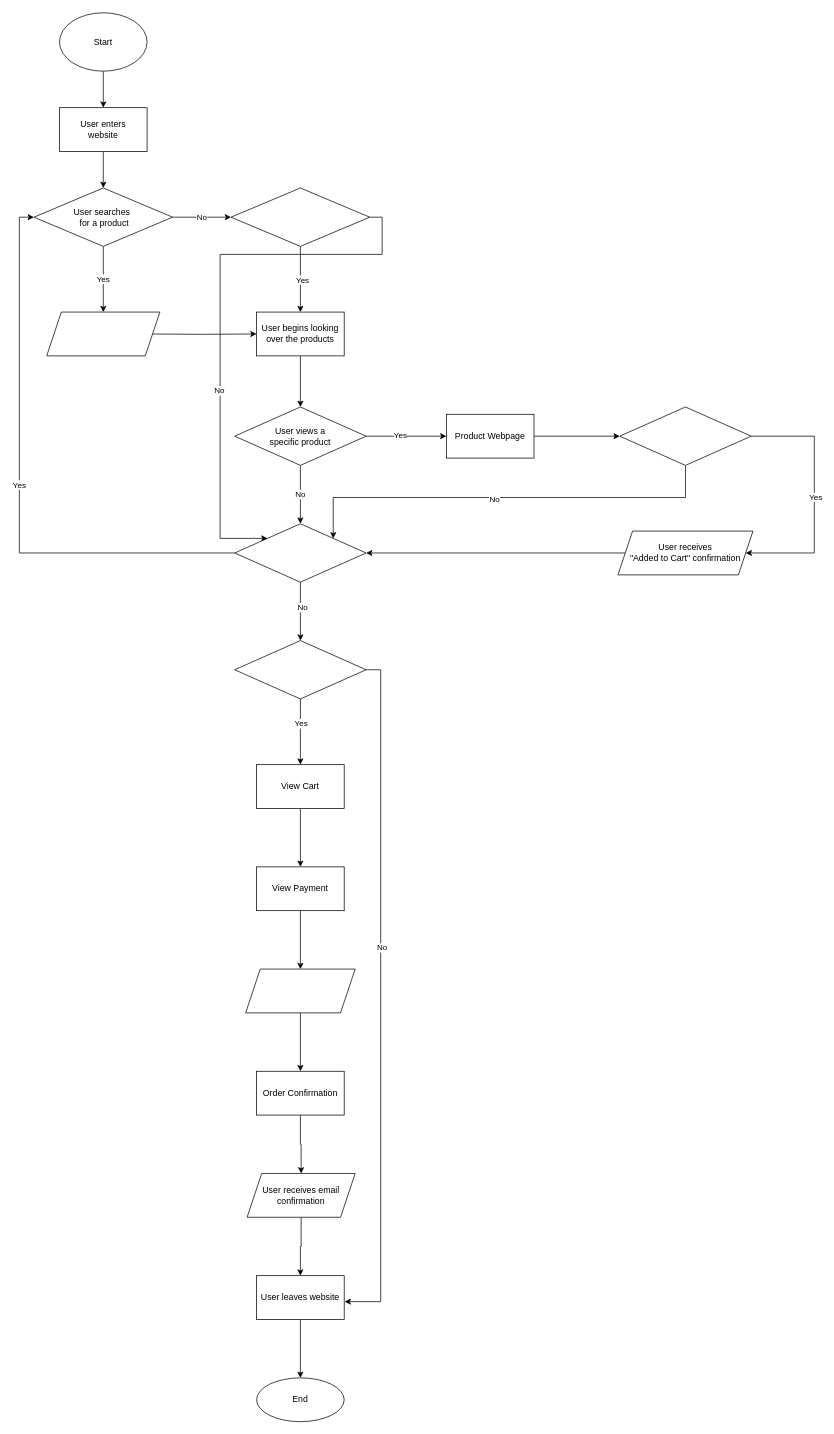
This 834x1434 diagram has some shape labels left out. Here are the shapes that lost their labels. From the top down, the centre of each, then its label:
At pixel 300 216: "User explores products on home page".
At pixel 103 333: "User provides input to the website of their search".
At pixel 685 435: "User adds product to cart".
At pixel 300 552: "User decides to continue shopping".
At pixel 300 669: "User decides to checkout".
At pixel 300 990: "User inputs payment information".
